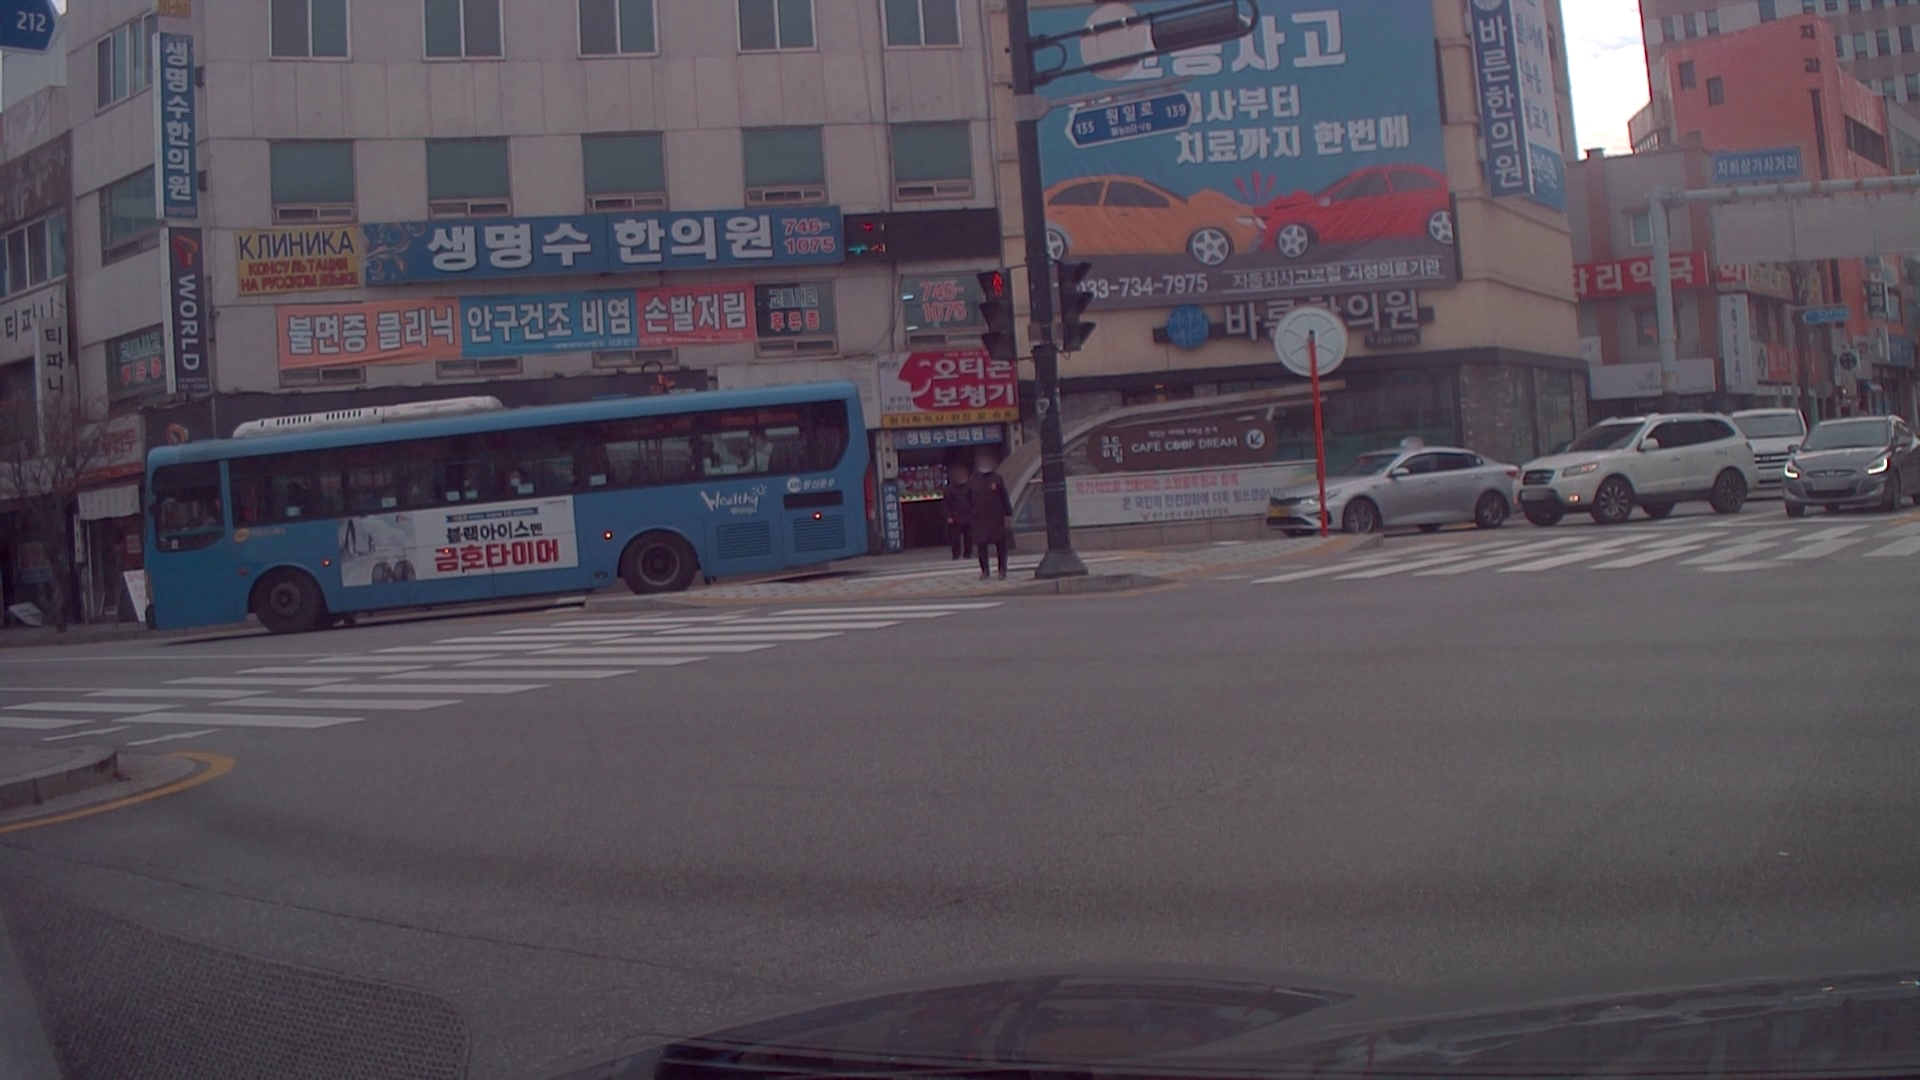trafficLight: (1151, 1, 1258, 54)
trafficLightBar: (981, 266, 1017, 367), (1056, 261, 1092, 353)
trafficSignCircle: (1273, 307, 1349, 377)
